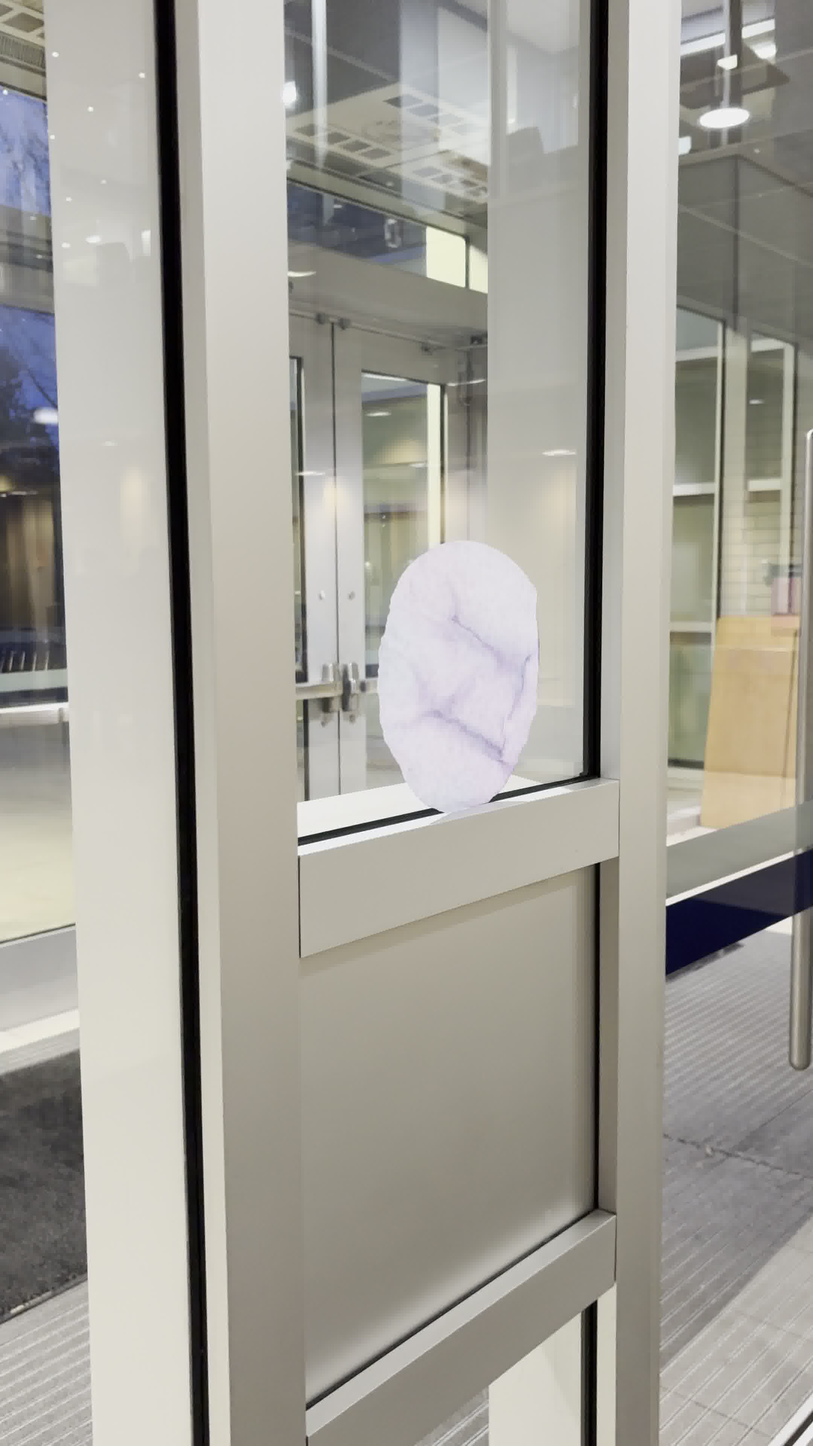Target: (376, 541, 542, 814)
